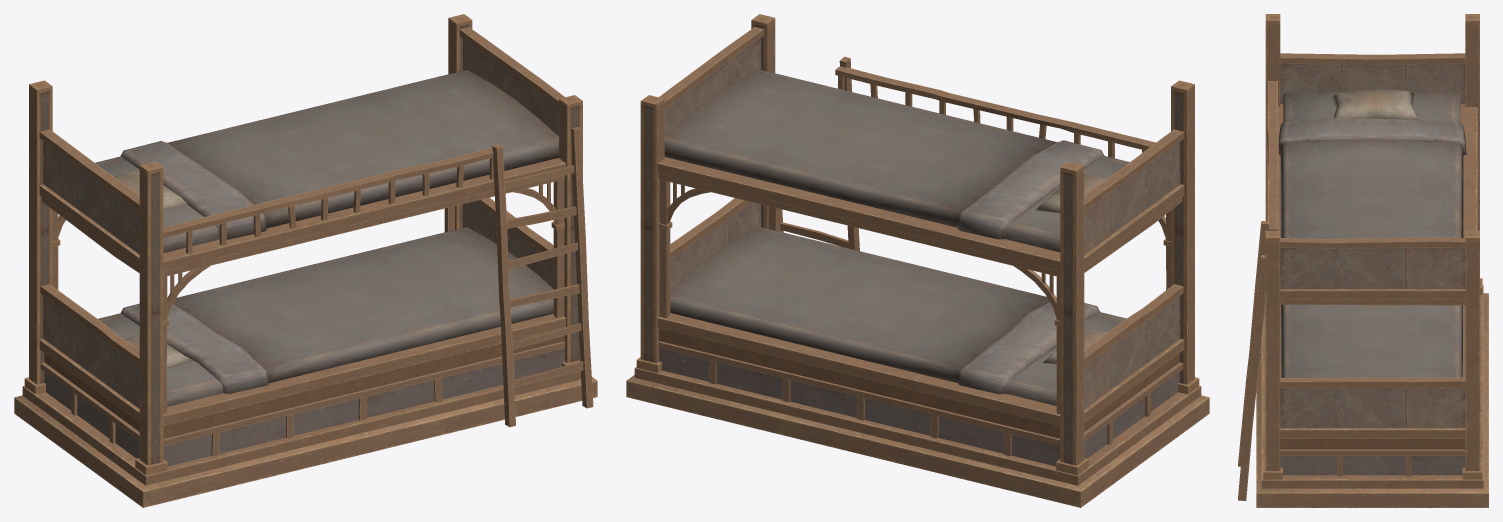
The model's file is Homeworld_Interior_Fd_Bed_Prop_Shuangren_01_Lod0.fbx.
3 renders of one model, left to right at view 1: azimuth 30°, elevation 25°; view 2: azimuth 150°, elevation 25°; view 3: azimuth 270°, elevation 25°, orthographic. The views are drawn at different scales.
Parts seen in each view (by area): view 1: Area_Fd_Prop_SXGC_Chuang_01_Lod0; view 2: Area_Fd_Prop_SXGC_Chuang_01_Lod0; view 3: Area_Fd_Prop_SXGC_Chuang_01_Lod0.
Boxes of the visible parts, box(x1,y1,x2,y2) form: Area_Fd_Prop_SXGC_Chuang_01_Lod0: box(14, 14, 597, 507); Area_Fd_Prop_SXGC_Chuang_01_Lod0: box(626, 14, 1209, 507); Area_Fd_Prop_SXGC_Chuang_01_Lod0: box(1238, 14, 1488, 507).
Bounding box in the file's own units: 4.8 × 3.34 × 2.55.
